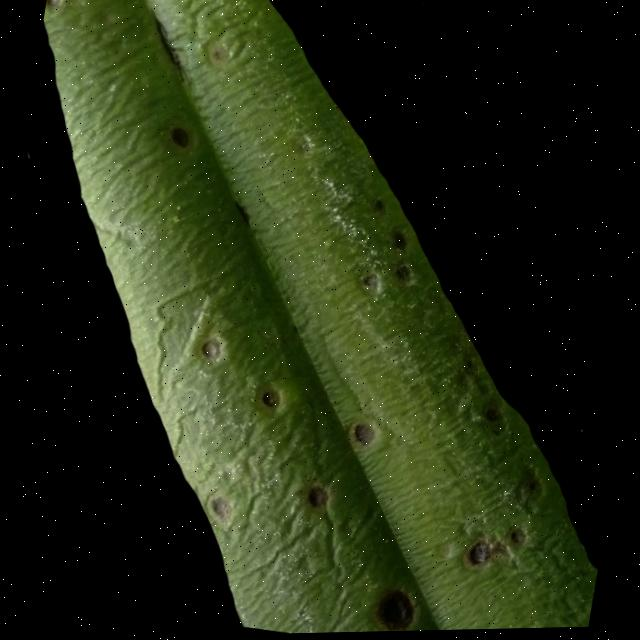mite: (142, 317, 563, 634), (329, 189, 438, 313), (357, 222, 429, 307), (459, 518, 534, 582), (243, 373, 298, 429), (152, 112, 208, 165), (343, 414, 386, 459), (464, 539, 497, 574), (206, 493, 239, 527), (352, 420, 380, 450), (199, 337, 227, 366), (167, 125, 194, 151), (393, 262, 418, 288), (508, 526, 533, 551), (481, 404, 507, 428), (260, 388, 284, 413), (389, 229, 413, 254), (360, 272, 382, 294), (371, 196, 389, 218), (45, 0, 67, 11)
sunburn: (371, 586, 425, 633)
